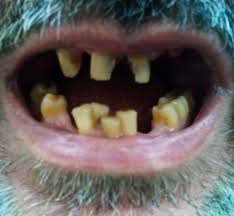normal: (90, 51, 111, 81), (117, 109, 137, 133), (163, 92, 182, 104)
rough: (112, 50, 134, 81), (57, 99, 74, 129), (88, 102, 106, 130), (136, 107, 155, 132), (76, 49, 90, 76)
yellow: (153, 104, 176, 132), (56, 49, 79, 76), (41, 94, 65, 119), (131, 52, 149, 82), (72, 107, 92, 130), (102, 117, 120, 135)
